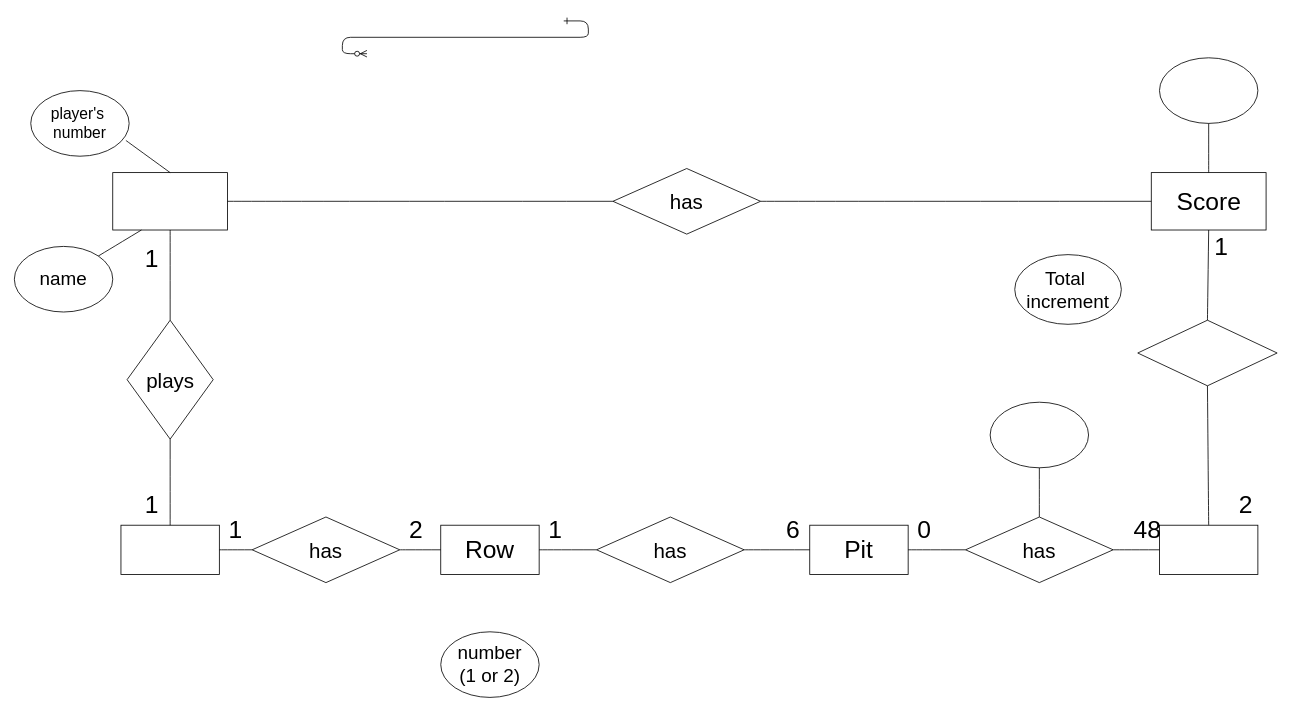
Some shapes in this 1292 by 712 pixel diagram are drawn without their labels. The centre of each missing label's shape, as x and y in pixels:
Board: [169,549]
Increments: [1207,352]
Player: [170,201]
position (x,y): [1039,434]
Seeds: [1208,549]
total: [1208,90]
